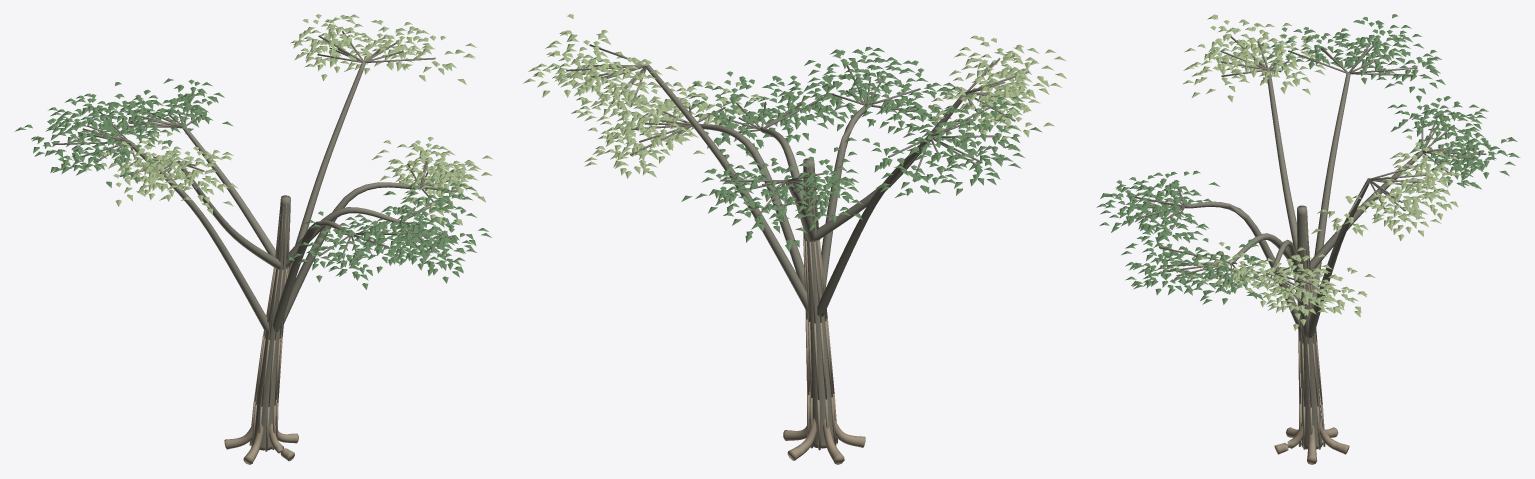
The model's file is grove-specimen-2.glb.
3 views of the same model, side by side, from view 1: azimuth 30°, elevation 25°; view 2: azimuth 150°, elevation 25°; view 3: azimuth 270°, elevation 25° (orthographic). The views are drawn at different scales.
Parts seen in each view (by area): view 1: grove-specimen-2; view 2: grove-specimen-2; view 3: grove-specimen-2.
Boxes of the visible parts, x1,y1,x2,y2 form: grove-specimen-2: (14,14,492,464); grove-specimen-2: (523,14,1066,464); grove-specimen-2: (1096,14,1520,464).
Bounding box in the file's own units: 9.93 × 7.96 × 8.53.
